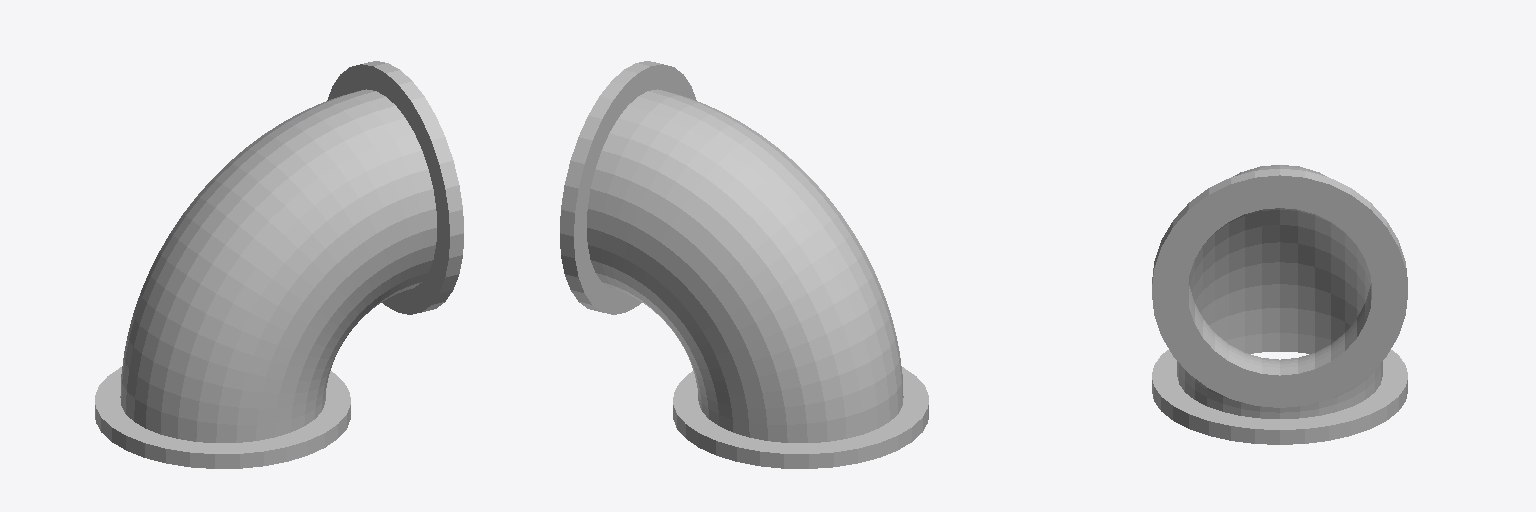
The model's file is pipebend_dr.obj.
3 views of the same model, side by side, from view 1: azimuth 30°, elevation 25°; view 2: azimuth 150°, elevation 25°; view 3: azimuth 270°, elevation 25° (orthographic).
Visible parts, largest first — view 1: Cylinder; view 2: Cylinder; view 3: Cylinder.
Boxes of the visible parts, x1,y1,x2,y2 form: Cylinder: [95, 61, 463, 468]; Cylinder: [560, 61, 928, 468]; Cylinder: [1152, 165, 1407, 444].
Bounding box in the file's own units: 0.8109 × 0.8109 × 0.625.